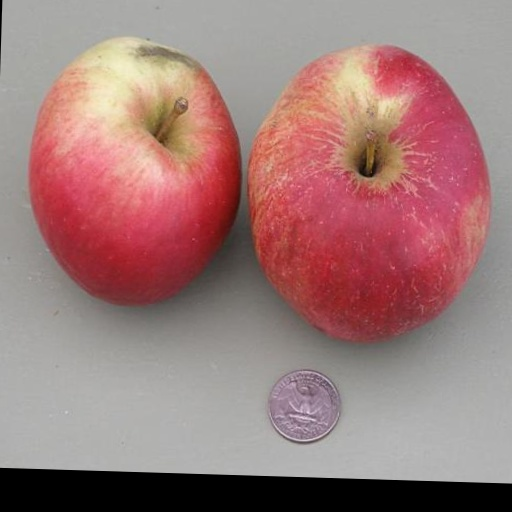fruit: (248, 46, 490, 341), (30, 38, 240, 304)
